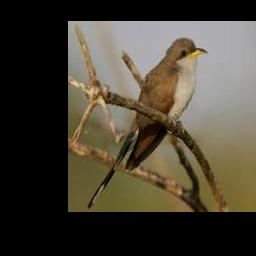Cuckoo: (88, 37, 207, 208)
